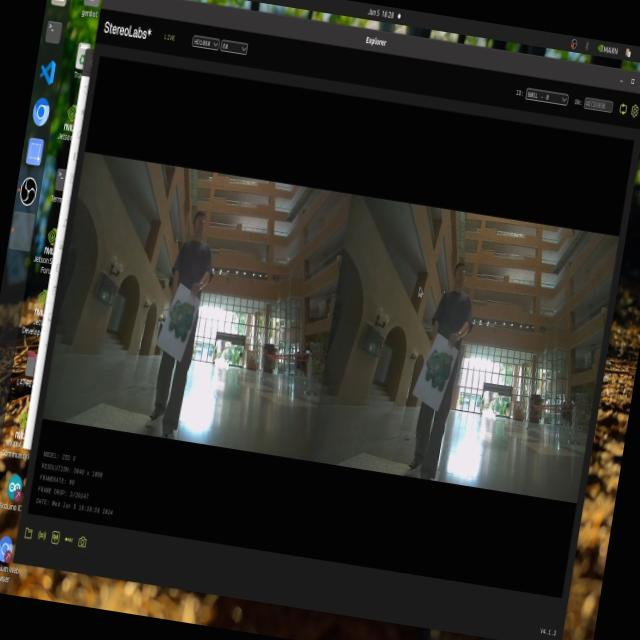green: (418, 331, 460, 403), (160, 293, 207, 357)
